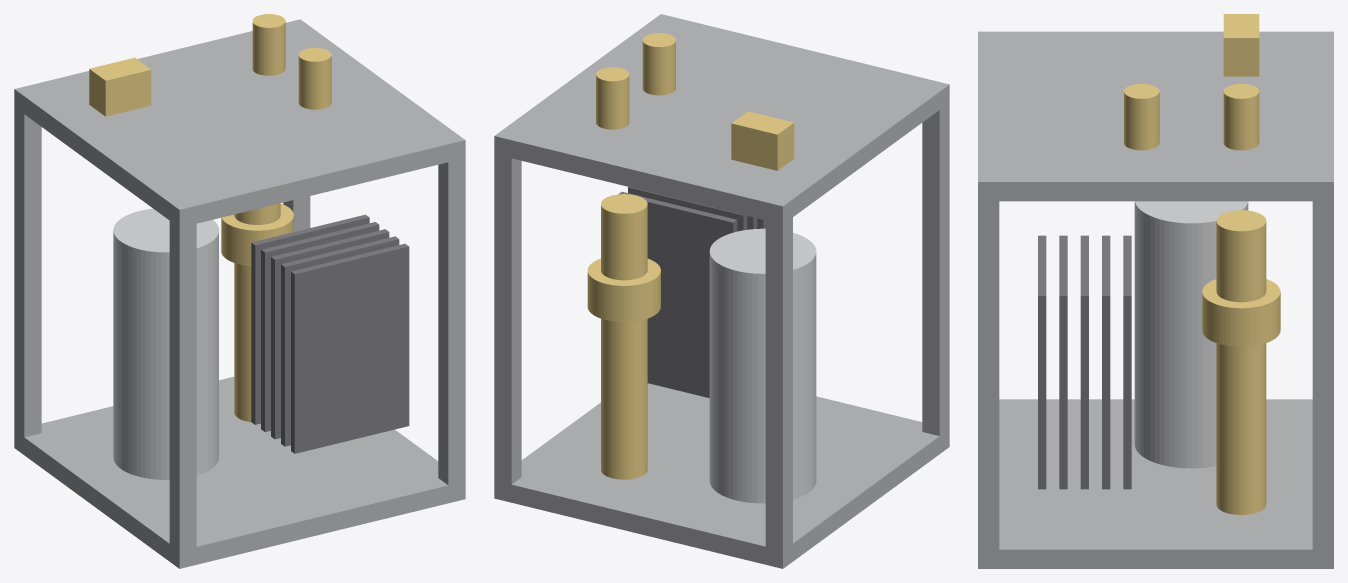
Rendered from tank08_cryocooler.glb.
The picture shows the model from 3 angles, left to right: view 1: azimuth 30°, elevation 25°; view 2: azimuth 150°, elevation 25°; view 3: azimuth 270°, elevation 25°; orthographic projection. The views are drawn at different scales.
Parts seen in each view (by area): view 1: frame, heat_exchanger, compressor, cryo_ports, cold_head; view 2: frame, compressor, cold_head, heat_exchanger, cryo_ports; view 3: frame, compressor, cold_head, heat_exchanger, cryo_ports.
Part boxes in pixels (x1,y1,x2,y2): frame: [14, 19, 465, 568]; heat_exchanger: [251, 214, 409, 453]; compressor: [113, 208, 218, 479]; cryo_ports: [89, 14, 331, 116]; cold_head: [221, 203, 293, 421]; frame: [494, 14, 949, 568]; compressor: [709, 228, 816, 503]; cold_head: [587, 194, 660, 479]; heat_exchanger: [618, 187, 765, 397]; cryo_ports: [596, 33, 794, 170]; frame: [978, 31, 1333, 568]; compressor: [1134, 201, 1248, 468]; cold_head: [1202, 210, 1280, 514]; heat_exchanger: [1038, 235, 1131, 489]; cryo_ports: [1124, 14, 1259, 150].
Bounding box in the file's own units: 0.5 × 0.68 × 0.5.
